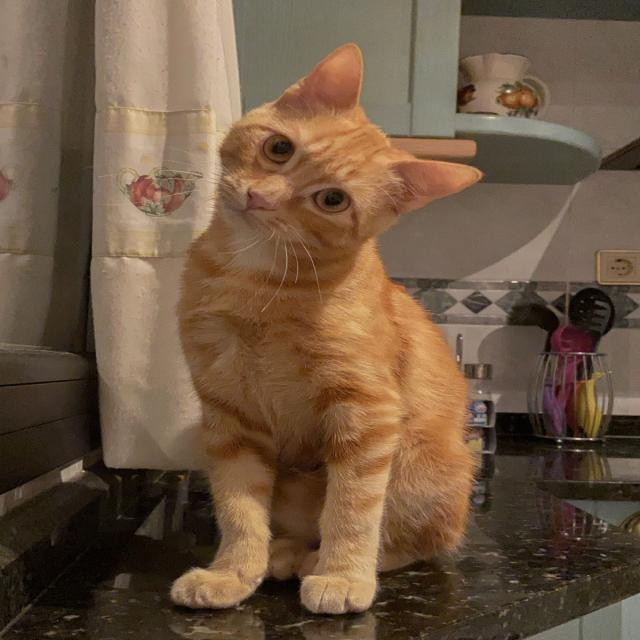sarman: (171, 44, 481, 614)
